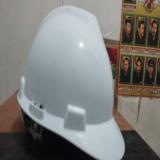Helmet: (17, 5, 126, 160)
